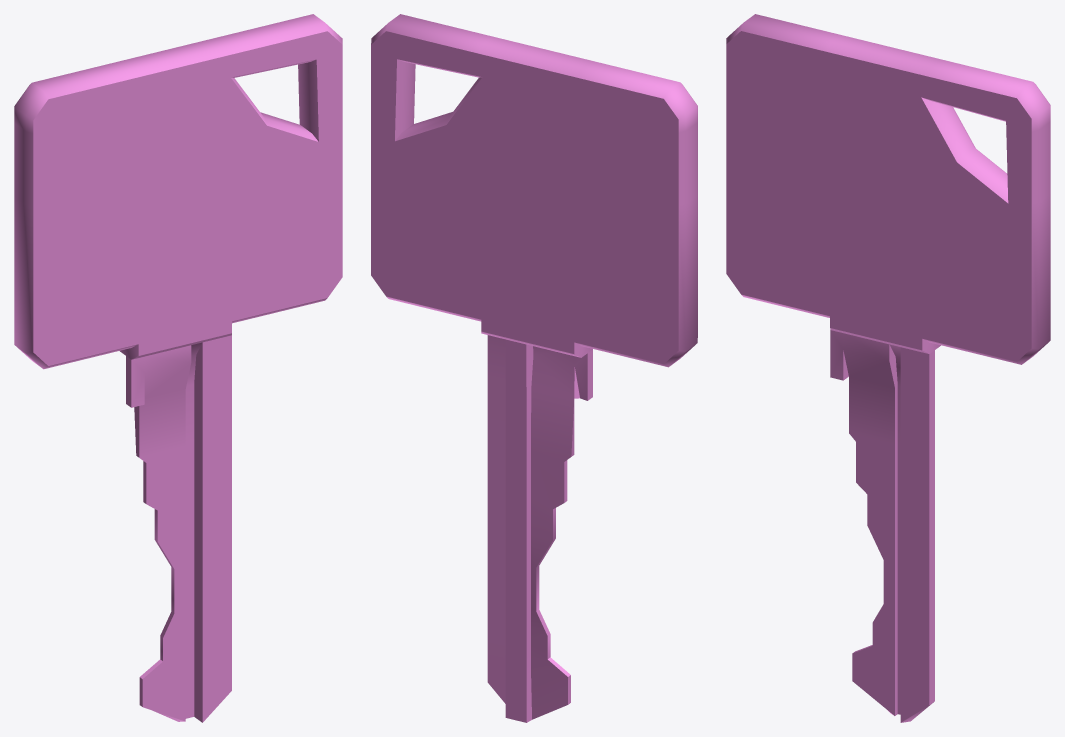
File: Keys_31.FBX
The picture shows the model from 3 angles, left to right: view 1: azimuth 30°, elevation 25°; view 2: azimuth 150°, elevation 25°; view 3: azimuth 330°, elevation 25°; orthographic projection.
Visible parts, largest first — view 1: Keys_31; view 2: Keys_31; view 3: Keys_31.
Boxes of the visible parts, x1,y1,x2,y2 form: Keys_31: [14, 14, 342, 722]; Keys_31: [371, 14, 697, 722]; Keys_31: [726, 14, 1050, 722].
Bounding box in the file's own units: 1.03 × 2.08 × 0.1075.
